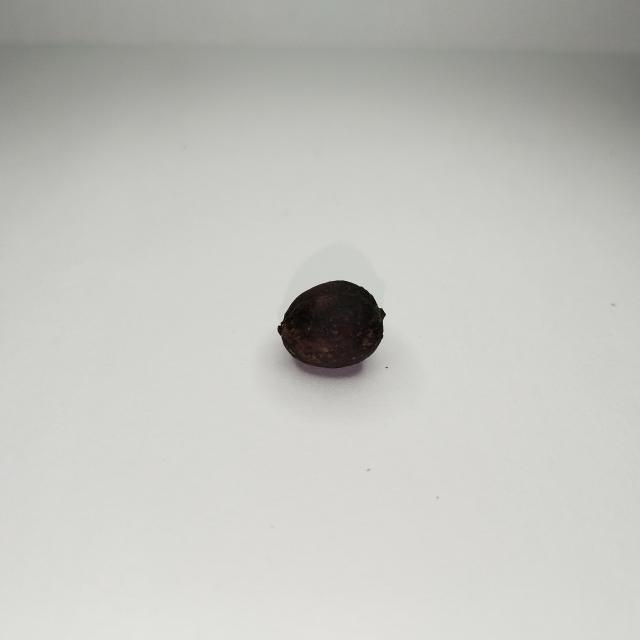Danado: (276, 281, 388, 375)
